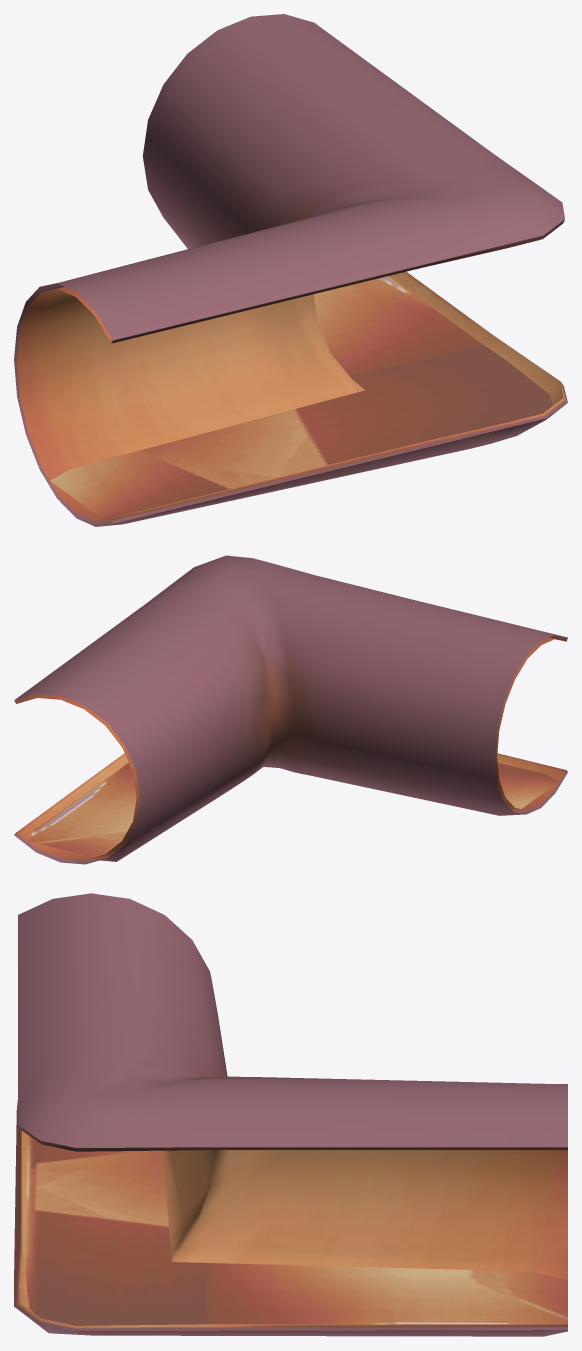
The model's file is openPipe_cornerSwitch 1.fbx.
The picture shows the model from 3 angles, top to bottom: view 1: azimuth 30°, elevation 25°; view 2: azimuth 150°, elevation 25°; view 3: azimuth 270°, elevation 25°; orthographic projection. The views are drawn at different scales.
Parts seen in each view (by area): view 1: openPipe_cornerSwitch, openPipe_cornerSwitch_colFloor; view 2: openPipe_cornerSwitch, openPipe_cornerSwitch_colFloor; view 3: openPipe_cornerSwitch, openPipe_cornerSwitch_colFloor.
Boxes of the visible parts, <box> form: openPipe_cornerSwitch: <box>14,14,567,526</box>; openPipe_cornerSwitch_colFloor: <box>50,276,552,519</box>; openPipe_cornerSwitch: <box>14,555,567,864</box>; openPipe_cornerSwitch_colFloor: <box>27,761,559,857</box>; openPipe_cornerSwitch: <box>14,893,567,1336</box>; openPipe_cornerSwitch_colFloor: <box>25,1135,567,1325</box>.
Size of the model in its own units: 6.51 by 2.94 by 6.53.
1 material, 1 textured.
